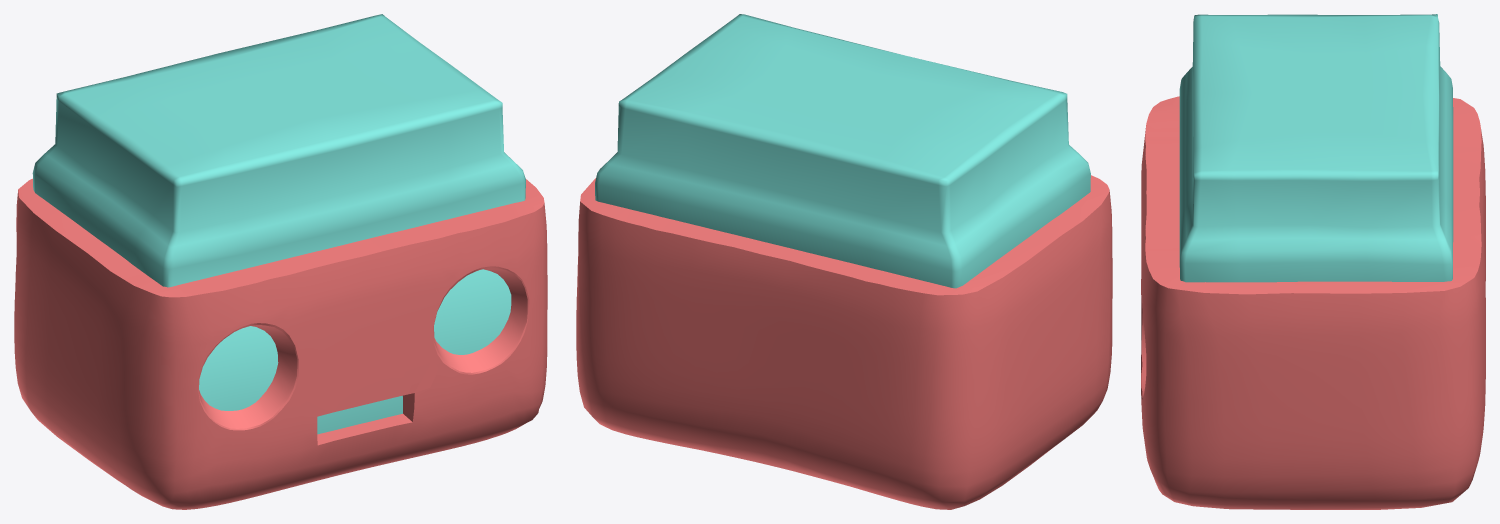
Rendered from Head_No_Cap.fbx.
The picture shows the model from 3 angles, left to right: view 1: azimuth 30°, elevation 25°; view 2: azimuth 150°, elevation 25°; view 3: azimuth 270°, elevation 25°; orthographic projection.
Visible parts, largest first — view 1: head; view 2: head; view 3: head.
Boxes of the visible parts, bbox=[...] form: head: bbox=[14, 14, 547, 509]; head: bbox=[576, 14, 1112, 509]; head: bbox=[1141, 14, 1485, 509].
Size of the model in its own units: 0.6608 by 0.5056 by 0.4684.
